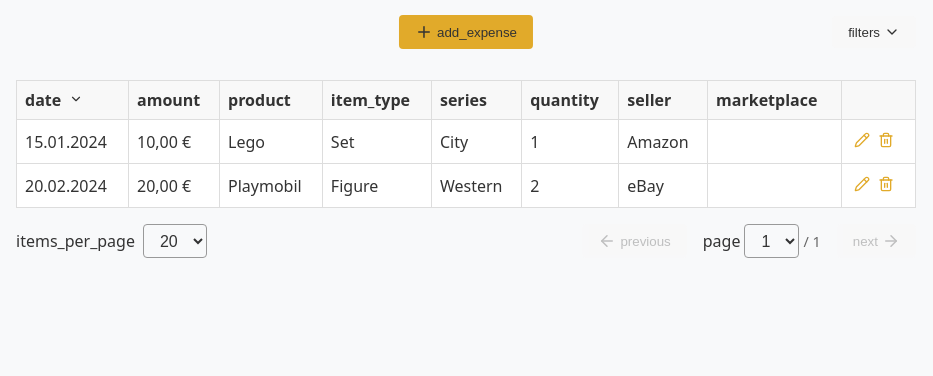
Scenario: <ExpensesView/> › shows the filter panel when the filters toggle is clicked
Click the button "filters". click: [874, 32]
box: [832,16,916,48]
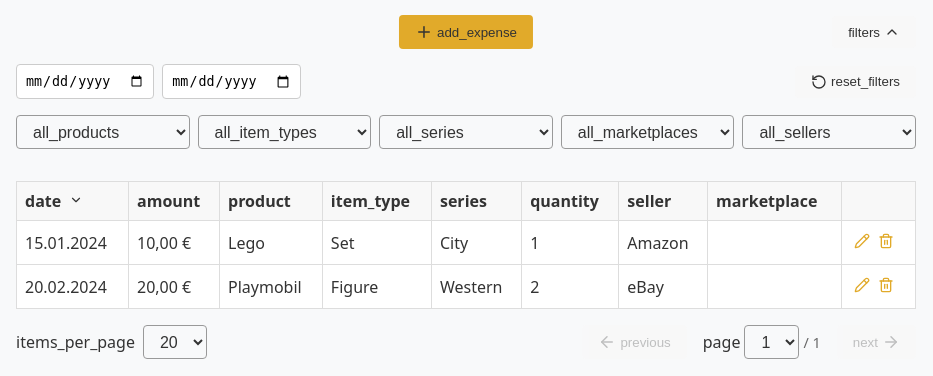
Expected: the dropdown titled "product" is shown, [16,115,190,149]
